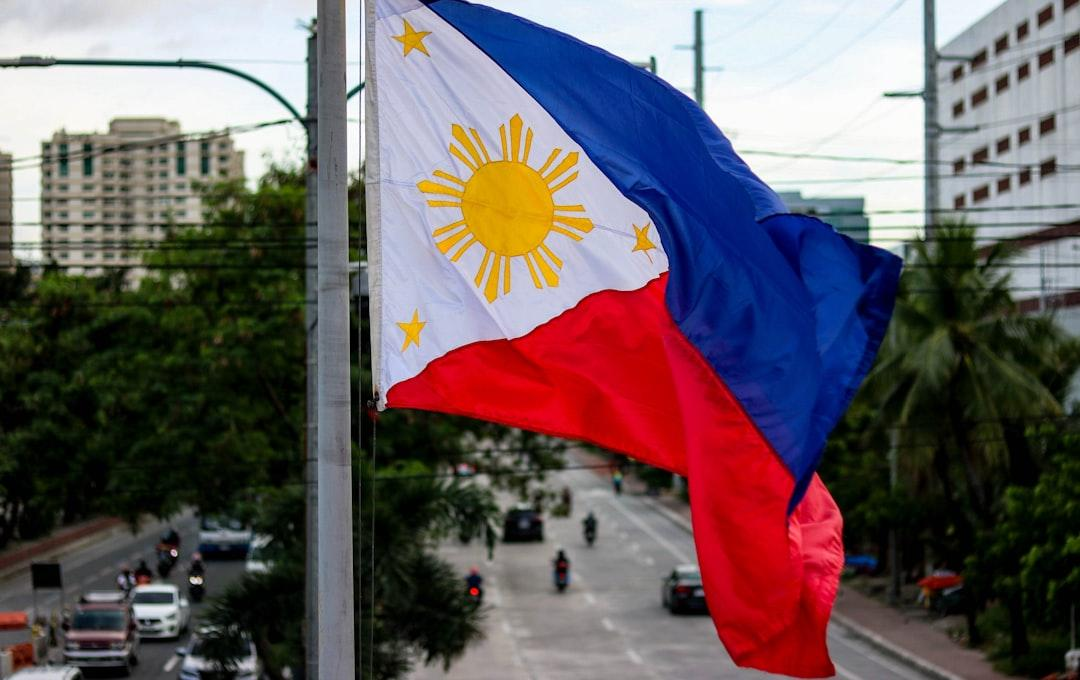Philippines: (366, 0, 905, 680)
